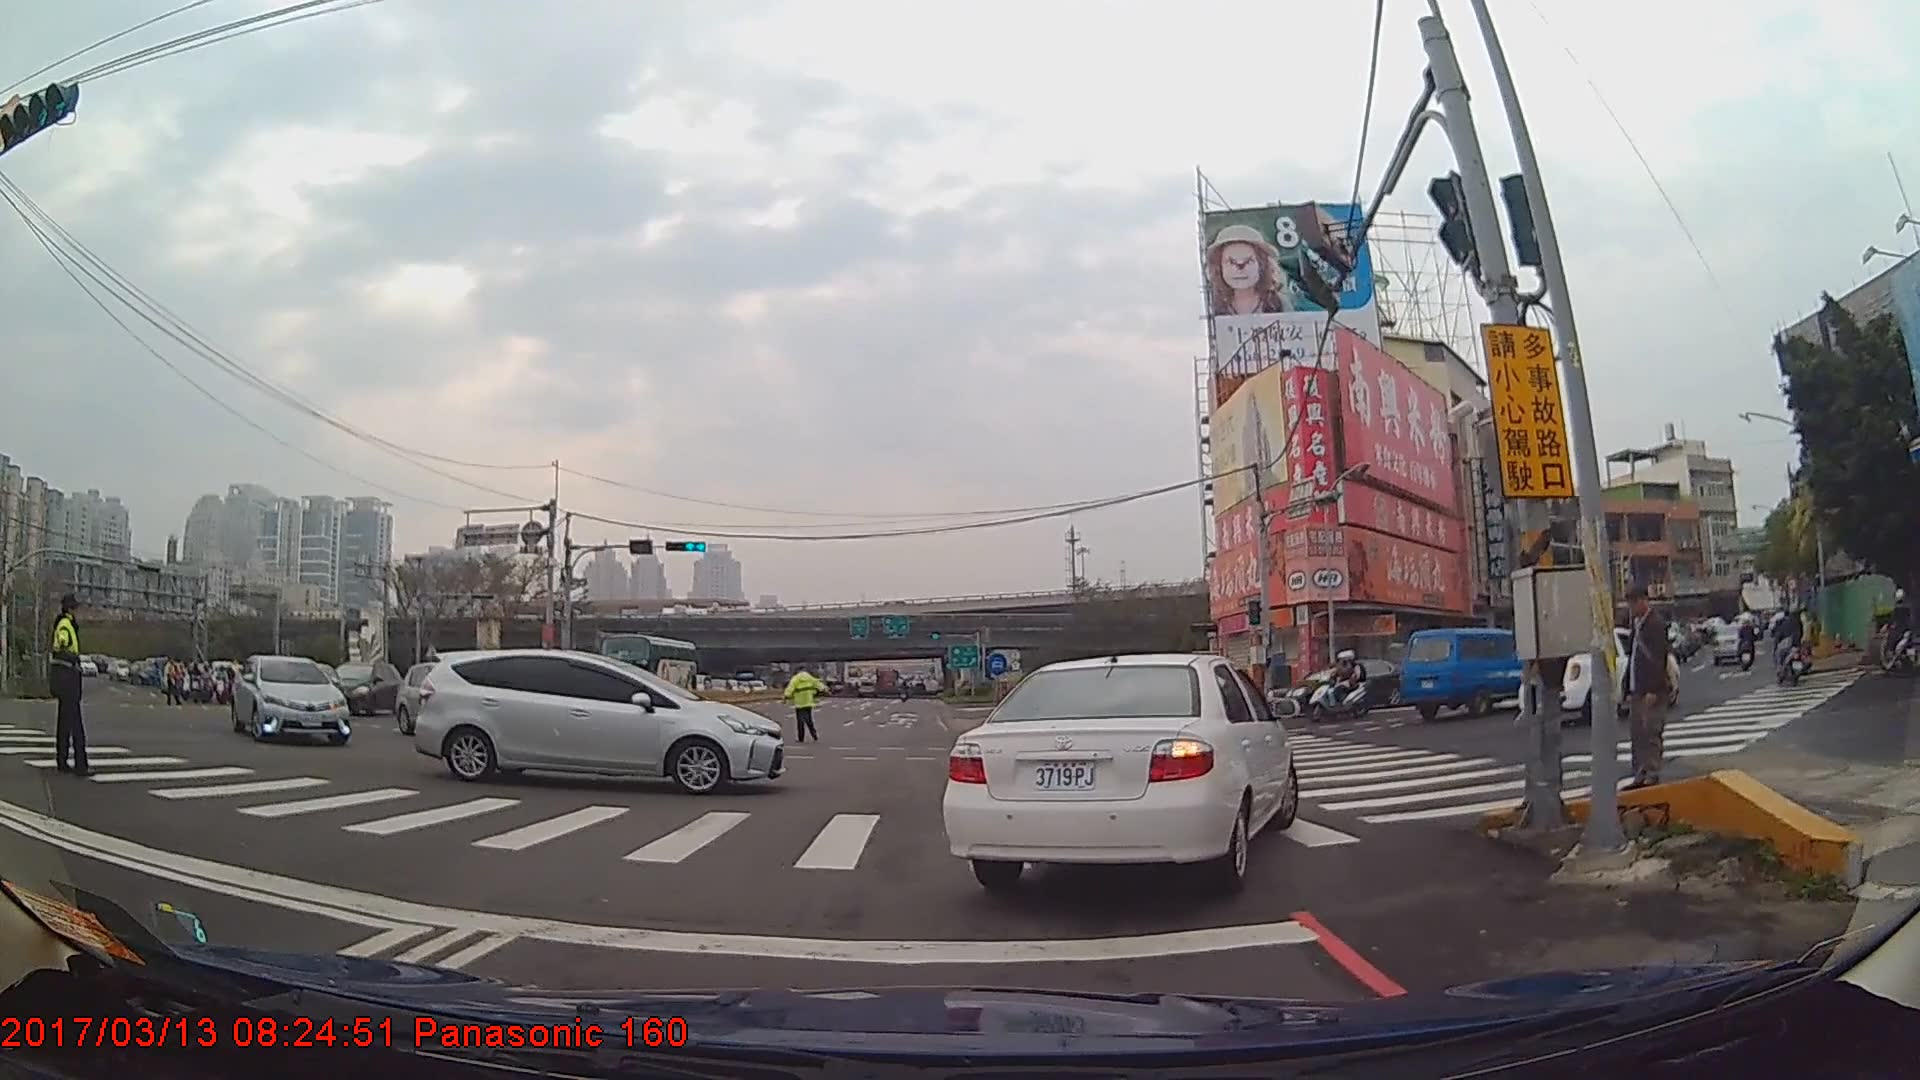pedestrian: (1611, 570, 1687, 806), (45, 590, 92, 782), (782, 660, 833, 744)
rider: (1305, 651, 1370, 726), (1877, 584, 1917, 679), (1774, 603, 1807, 684), (1793, 605, 1818, 680), (1737, 613, 1758, 676)
vehicle: (940, 651, 1298, 896), (411, 647, 783, 796), (1509, 631, 1678, 722), (1401, 626, 1553, 720), (229, 653, 352, 745), (597, 632, 700, 699), (325, 657, 401, 719), (1709, 621, 1752, 666)
